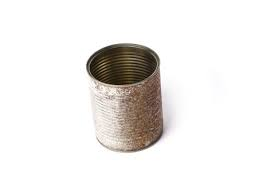metal: (84, 41, 166, 154)
